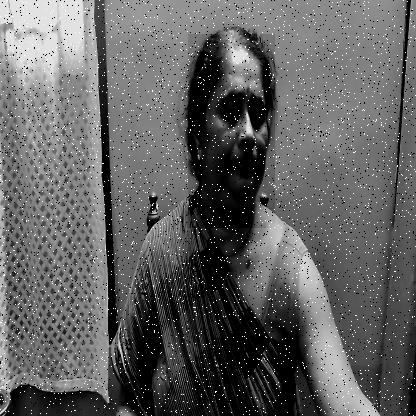Distracted: (188, 34, 275, 228)
